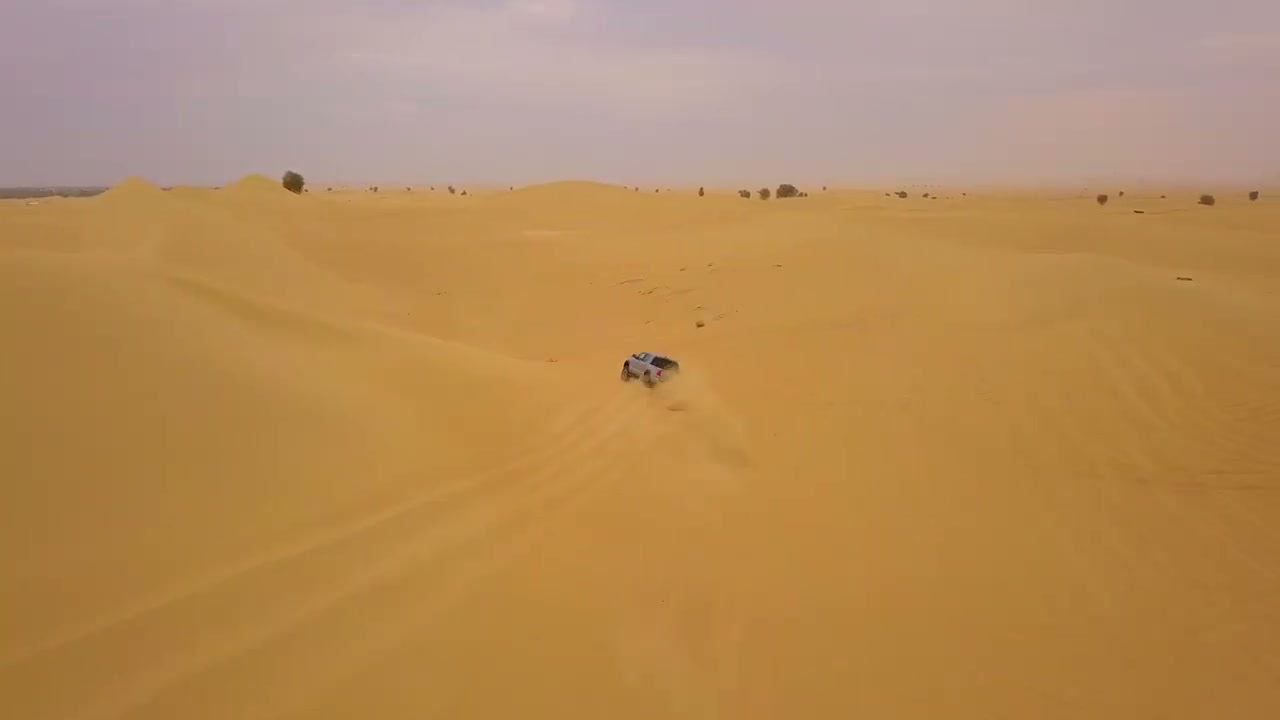vehicle_track: (0, 398, 659, 719)
